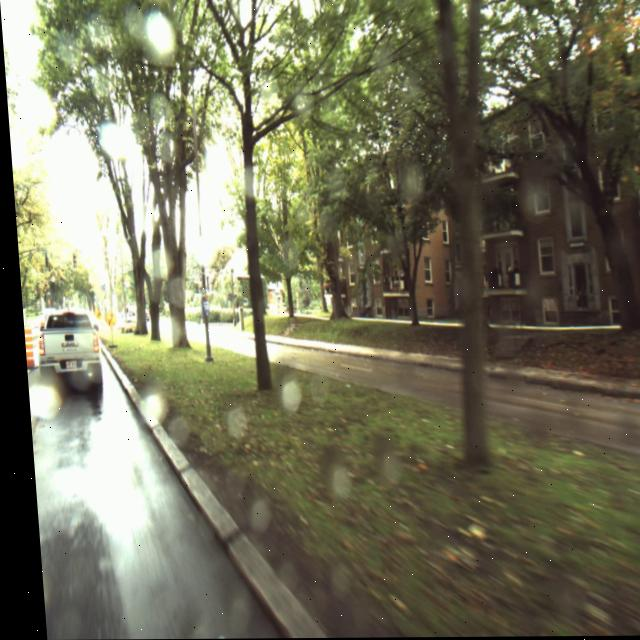car: (32, 312, 98, 396)
